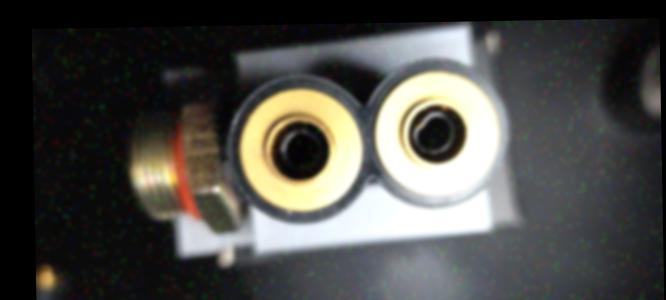off-centered: (412, 107, 460, 158)
